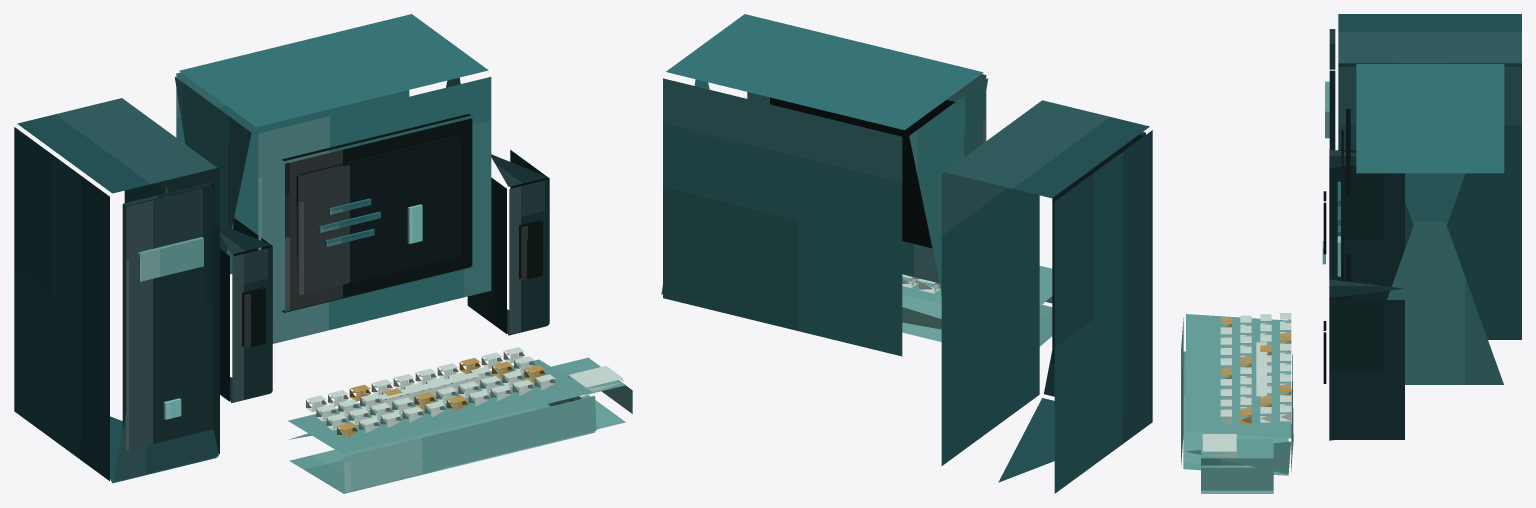
File: retro_computer_tower_teal.glb
The picture shows the model from 3 angles, left to right: view 1: azimuth 30°, elevation 25°; view 2: azimuth 150°, elevation 25°; view 3: azimuth 270°, elevation 25°; orthographic projection. The views are drawn at different scales.
Parts seen in each view (by area): view 1: MonitorShell, Tower, TowerFace, MonitorGlow, KeyboardBody, MonitorFace, Speaker_R, Speaker_L, DriveBay, Mouse, SpeakerCone_L, SpeakerCone_R (+2 smaller); view 2: MonitorShell, Tower, MonitorFace, KeyboardBody, TowerFace; view 3: MonitorShell, Tower, Speaker_R, KeyboardBody, Speaker_L, Mouse, TowerFace, MouseButton, MonitorFace, SpaceBar.
Boxes of the visible parts, x1,y1,x2,y2 form: MonitorShell: (174,14,491,343); Tower: (14,98,219,483); TowerFace: (122,182,213,450); MonitorGlow: (296,135,462,295); KeyboardBody: (288,359,596,493); MonitorFace: (282,114,472,312); Speaker_R: (467,150,549,335); Speaker_L: (220,218,272,403); DriveBay: (138,237,203,281); Mouse: (548,357,632,429); SpeakerCone_L: (242,287,265,348); SpeakerCone_R: (519,220,542,280); MonitorShell: (661,14,988,356); Tower: (941,100,1152,493); MonitorFace: (770,97,954,248); KeyboardBody: (902,265,1052,346); TowerFace: (1052,132,1145,364); MonitorShell: (1356,64,1504,384); Tower: (1338,14,1521,339); Speaker_R: (1329,279,1404,440); KeyboardBody: (1181,314,1293,475); Speaker_L: (1329,149,1404,279); Mouse: (1201,439,1273,493); TowerFace: (1329,29,1335,150); MouseButton: (1202,434,1236,457); MonitorFace: (1346,109,1350,279); SpaceBar: (1256,342,1266,396).
Bounding box in the file's own units: 1.27 × 0.84 × 0.8659.
Materials: 1 (1 with a texture image).
